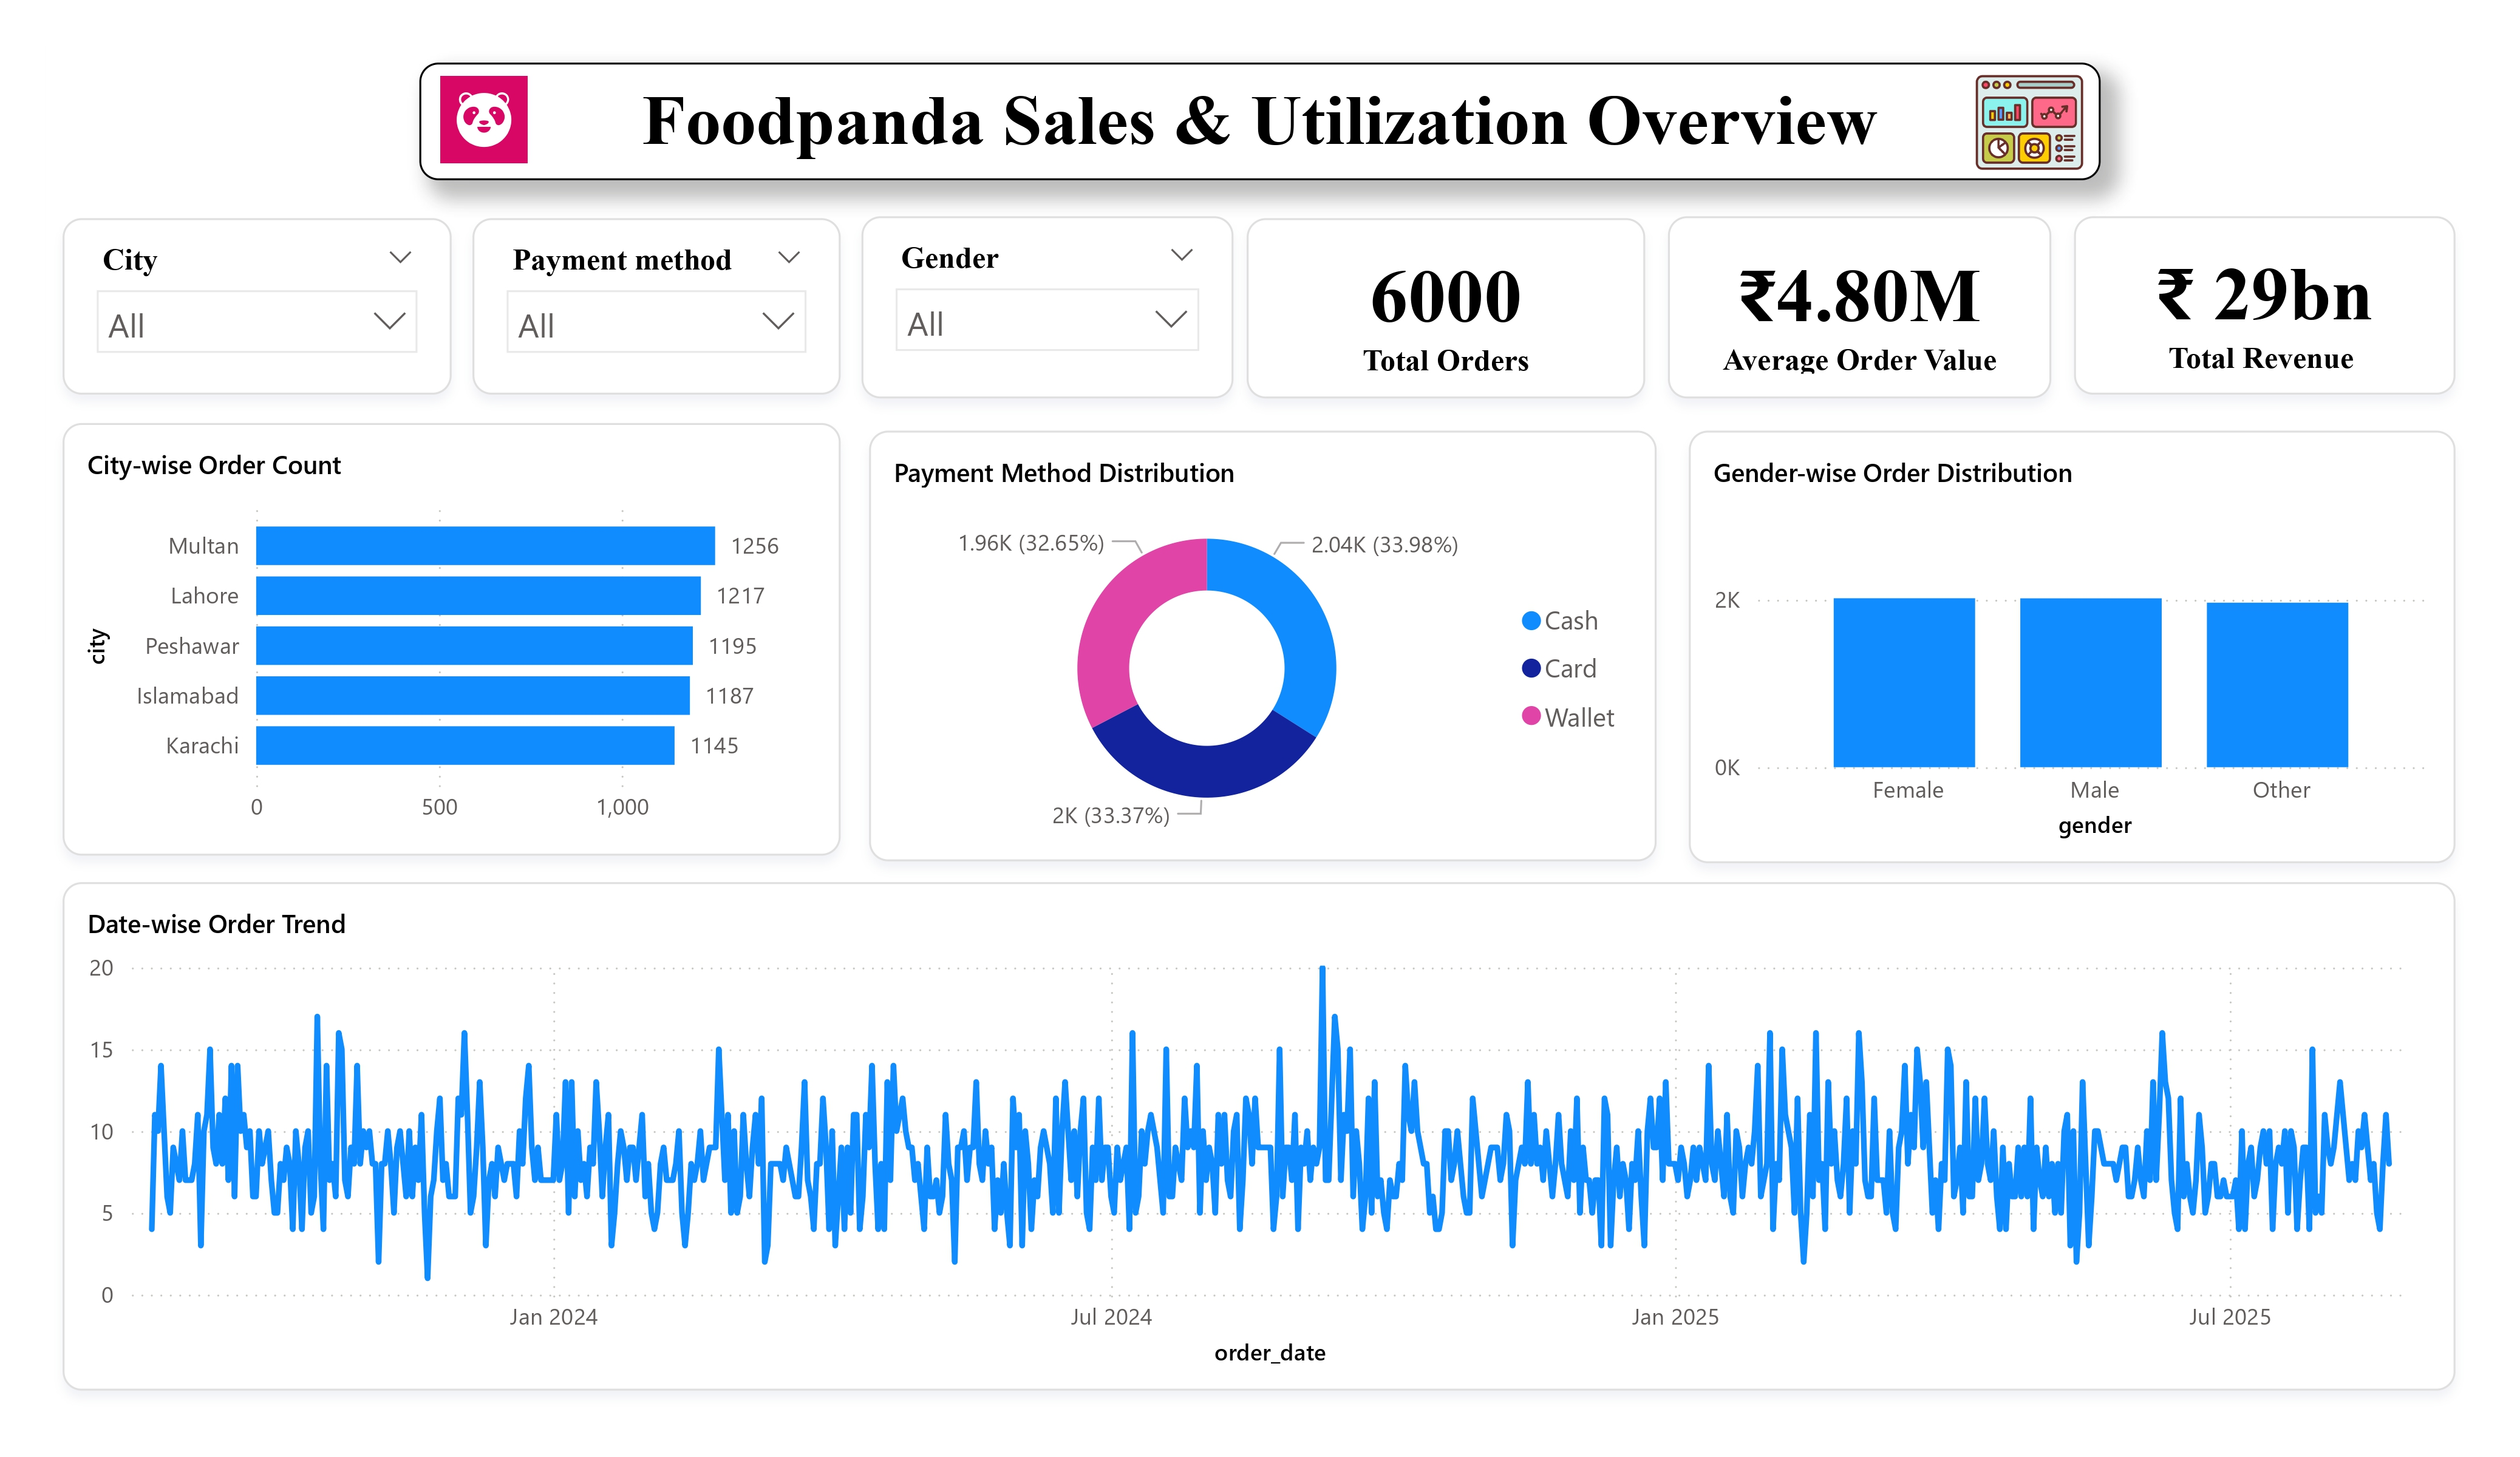

This screenshot's page, from the dashboard's own definition file:
{"tool":"powerbi","page":{"name":"Page 1 Sales & Utilization Overview","canvas":[1280,720],"ordinal":0},"visuals":[{"type":"barChart","title":"City-wise Order Count","fields":{"Category":["Foodpanda Analysis Dataset.city"],"Y":["CountNonNull(Foodpanda Analysis Dataset.order_id)"]},"box":[8.6,198.6,410,228.6],"z":0},{"type":"donutChart","title":"Payment Method Distribution","fields":{"Category":["Foodpanda Analysis Dataset.payment_method"],"Y":["CountNonNull(Foodpanda Analysis Dataset.order_id)"]},"box":[434.3,202.9,414.3,227.1],"z":1000},{"type":"lineChart","title":"Date-wise Order Trend\t","fields":{"Y":["CountNonNull(Foodpanda Analysis Dataset.order_id)"],"Category":["Foodpanda Analysis Dataset.order_date"]},"box":[8.6,441.4,1261.4,267.1],"z":2000},{"type":"card","fields":{"Values":["CountNonNull(Foodpanda Analysis Dataset.order_id)"]},"box":[795.7,91.4,210,94.3],"z":3000},{"type":"card","fields":{"Values":["Sum(Foodpanda Analysis Dataset.total_revenue)"]},"box":[1068.6,90,201.4,94.3],"z":4000},{"type":"slicer","fields":{"Values":["Foodpanda Analysis Dataset.city"]},"box":[8.6,91.4,205.7,92.9],"z":5000},{"type":"columnChart","title":"Gender-wise Order Distribution","fields":{"Category":["Foodpanda Analysis Dataset.gender"],"Y":["CountNonNull(Foodpanda Analysis Dataset.order_id)"]},"box":[865.7,202.9,404.3,228.6],"z":6000},{"type":"slicer","fields":{"Values":["Foodpanda Analysis Dataset.payment_method"]},"box":[274.3,91.4,194.3,92.9],"z":7000},{"type":"textbox","box":[197.1,8.6,885.7,62.9],"z":8000},{"type":"slicer","fields":{"Values":["Foodpanda Analysis Dataset.gender"]},"box":[535.7,91.4,194.3,94.3],"z":9000},{"type":"image","box":[198.6,11.4,64.3,55.7],"z":10000},{"type":"image","box":[1011.4,4.3,68.6,72.9],"z":11000}]}

Visuals, with their boxes on the page's 1280x720 design canvas (x1, y1, x2, y2). These are canvas units, not pixel positions in the 2520x1457 screenshot, which may show the page scaled, cropped or inside an application window:
"City-wise Order Count" barChart: (left=9, top=199, right=419, bottom=427)
"Payment Method Distribution" donutChart: (left=434, top=203, right=849, bottom=430)
"Date-wise Order Trend	" lineChart: (left=9, top=441, right=1270, bottom=708)
card - CountNonNull(Foodpanda Analysis Dataset.order_id): (left=796, top=91, right=1006, bottom=186)
card - Sum(Foodpanda Analysis Dataset.total_revenue): (left=1069, top=90, right=1270, bottom=184)
slicer - Foodpanda Analysis Dataset.city: (left=9, top=91, right=214, bottom=184)
"Gender-wise Order Distribution" columnChart: (left=866, top=203, right=1270, bottom=432)
slicer - Foodpanda Analysis Dataset.payment_method: (left=274, top=91, right=469, bottom=184)
textbox: (left=197, top=9, right=1083, bottom=72)
slicer - Foodpanda Analysis Dataset.gender: (left=536, top=91, right=730, bottom=186)
image: (left=199, top=11, right=263, bottom=67)
image: (left=1011, top=4, right=1080, bottom=77)
